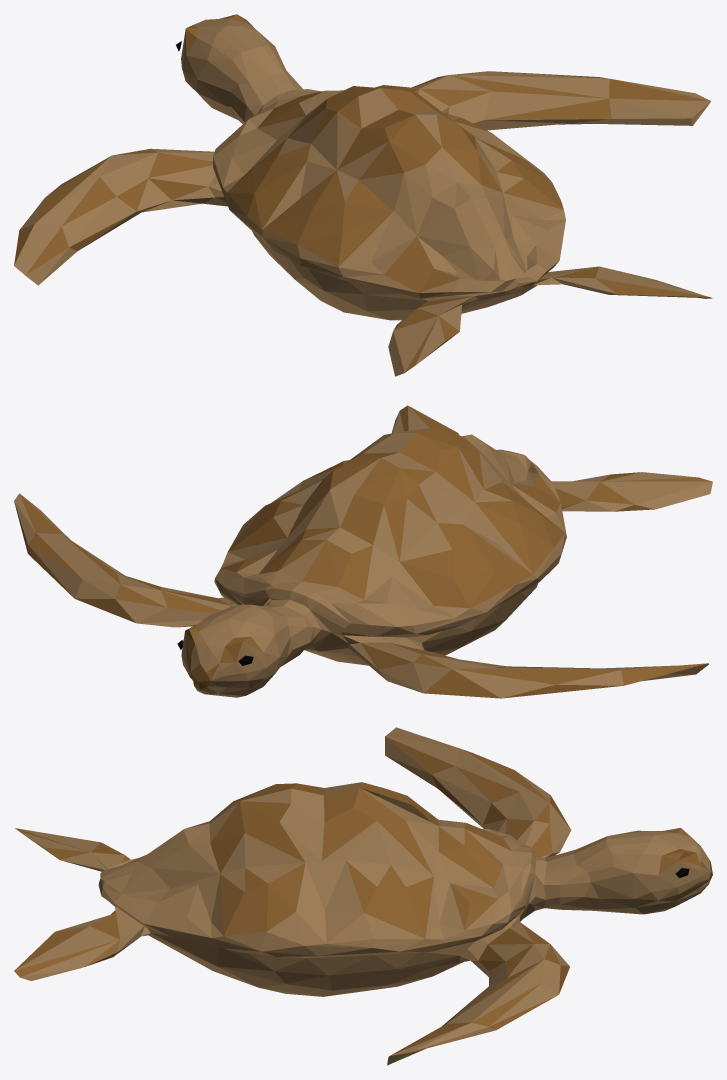
The model's file is turtle.glb.
The picture shows the model from 3 angles, top to bottom: view 1: azimuth 30°, elevation 25°; view 2: azimuth 150°, elevation 25°; view 3: azimuth 270°, elevation 25°; orthographic projection. The views are drawn at different scales.
Visible parts, largest first — view 1: turtle; view 2: turtle; view 3: turtle.
Boxes of the visible parts, x1,y1,x2,y2 form: turtle: [14, 14, 712, 376]; turtle: [14, 405, 712, 698]; turtle: [14, 727, 712, 1065].
Size of the model in its own units: 1.57 by 0.4227 by 1.41.
